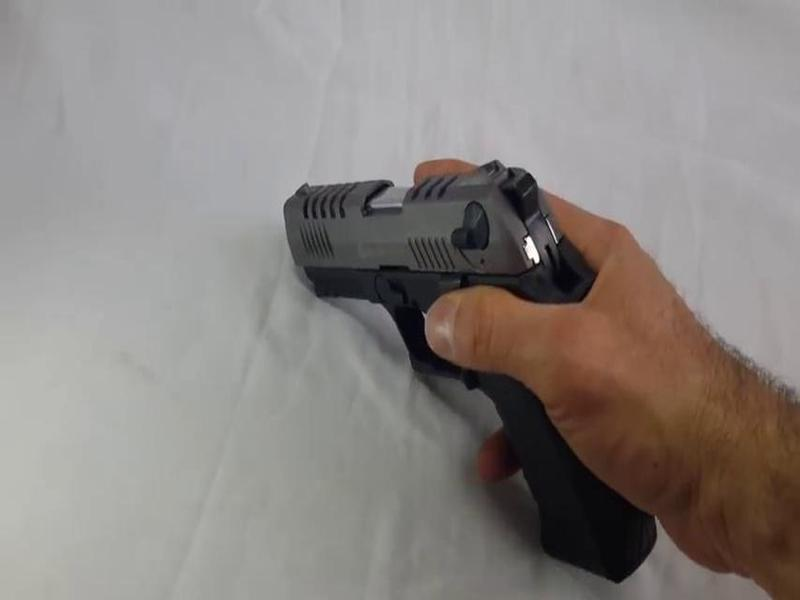Pistola: (245, 119, 670, 565)
